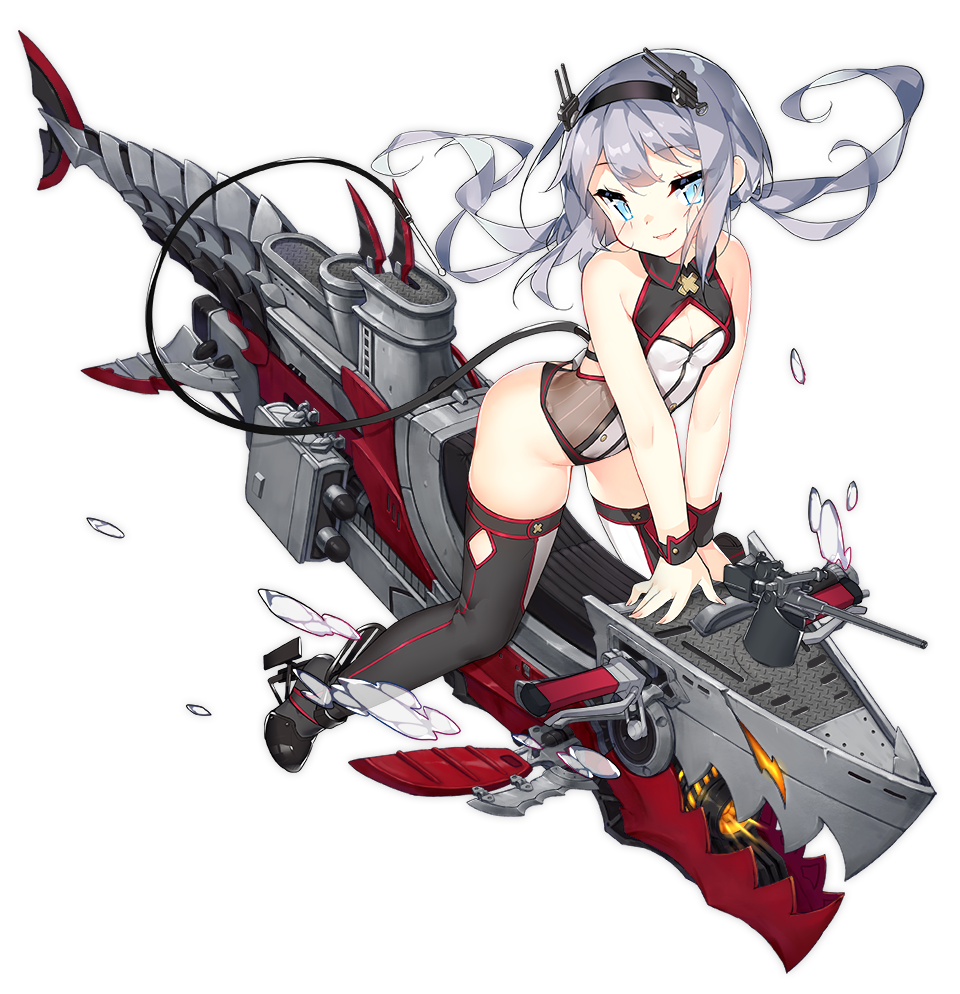person: (162, 41, 909, 788)
